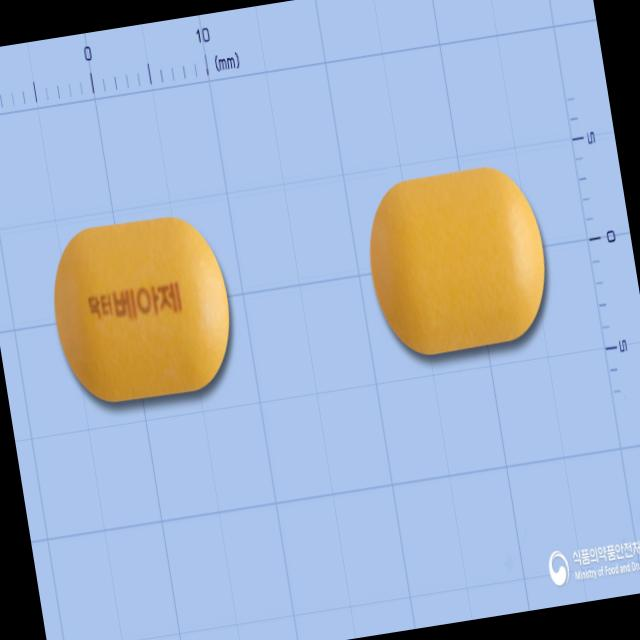Dr- Bearse: (42, 208, 241, 411)
